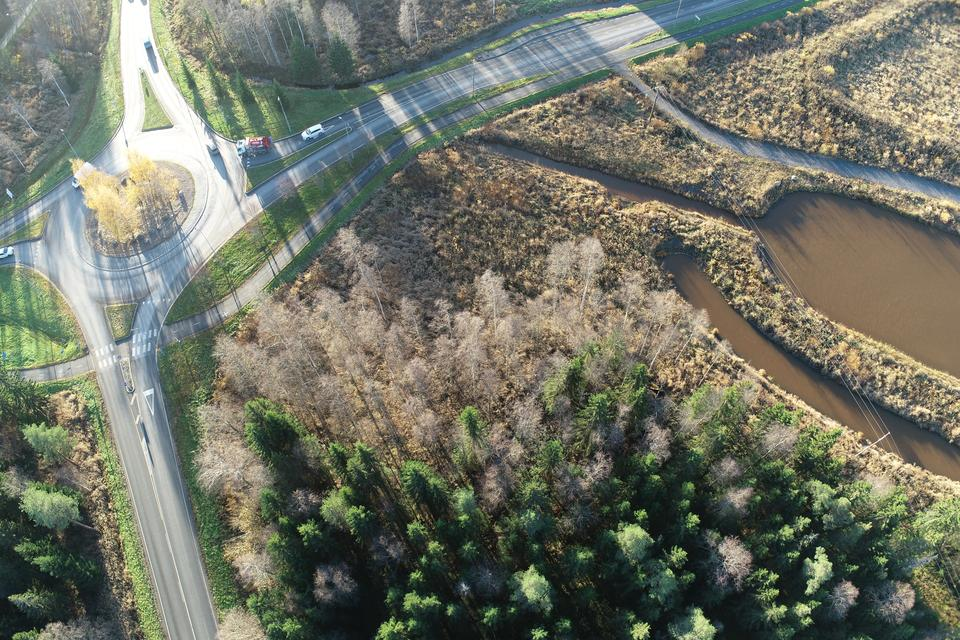intersection: (553, 0, 672, 98), (72, 320, 181, 386)
roundabout: (15, 111, 271, 308)
